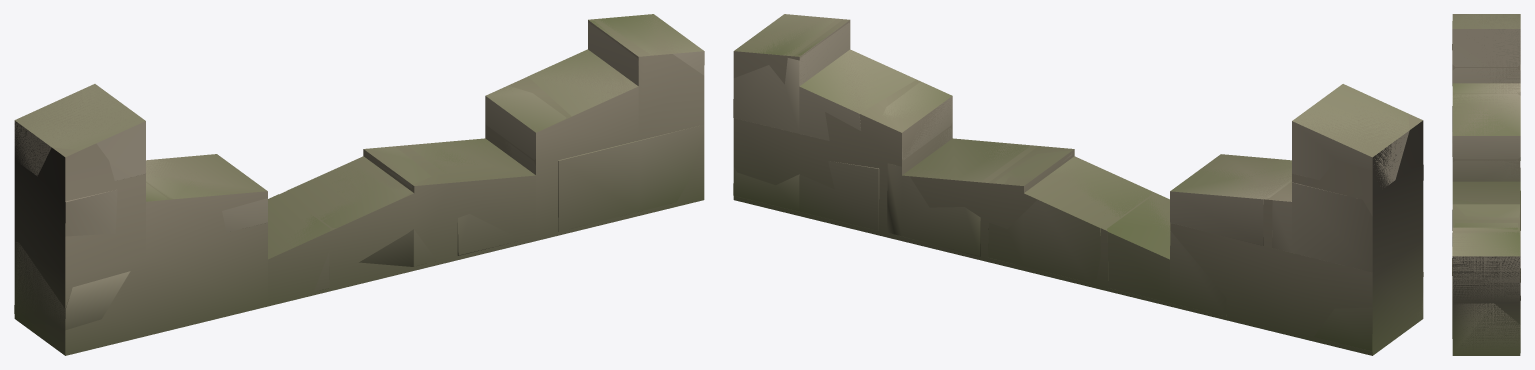
Rendered from arena_block_holed.glb.
The picture shows the model from 3 angles, left to right: view 1: azimuth 30°, elevation 25°; view 2: azimuth 150°, elevation 25°; view 3: azimuth 270°, elevation 25°; orthographic projection. The views are drawn at different scales.
Visible parts, largest first — view 1: arena_block_holed_far, arena_block_holed; view 2: arena_block_holed, arena_block_holed_far; view 3: arena_block_holed, arena_block_holed_far.
Part boxes in pixels (left/top/right/bottom): arena_block_holed_far: left=14, top=14, right=704, bottom=355; arena_block_holed: left=14, top=14, right=704, bottom=353; arena_block_holed: left=733, top=14, right=1423, bottom=351; arena_block_holed_far: left=733, top=16, right=1423, bottom=355; arena_block_holed: left=1452, top=14, right=1520, bottom=355; arena_block_holed_far: left=1452, top=14, right=1520, bottom=355.
Size of the model in its own units: 13.1 by 4.22 by 1.82.
